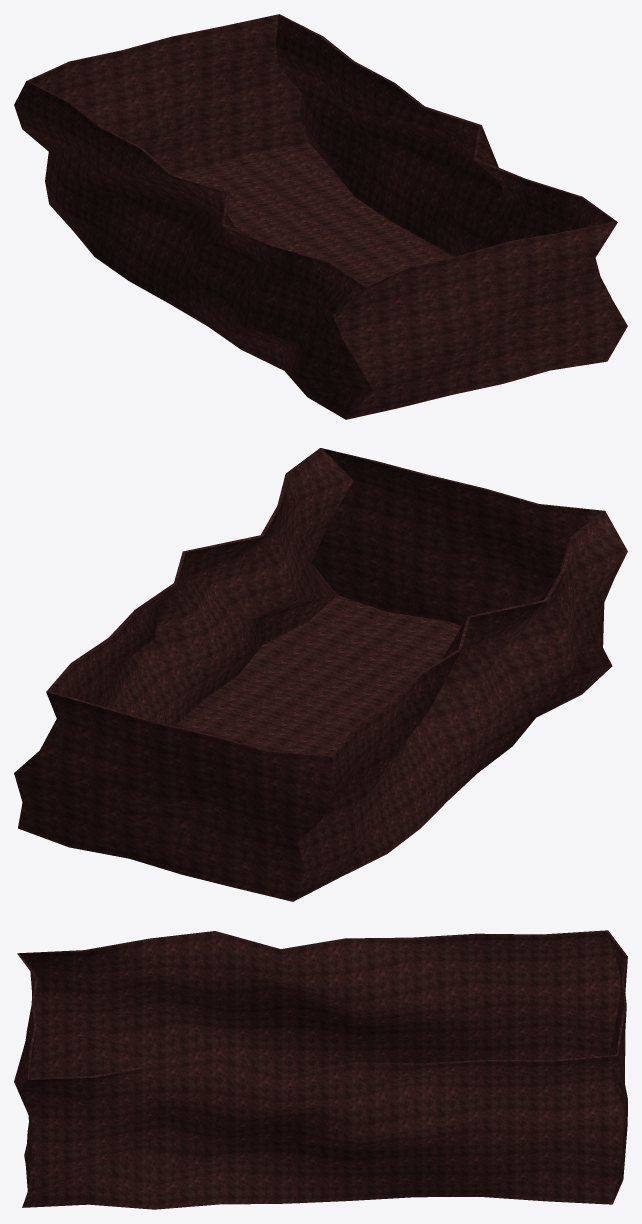
The model's file is BaseHell.FBX.
3 views of the same model, one above another, from view 1: azimuth 30°, elevation 25°; view 2: azimuth 150°, elevation 25°; view 3: azimuth 270°, elevation 25° (orthographic). The views are drawn at different scales.
Visible parts, largest first — view 1: Basehell; view 2: Basehell; view 3: Basehell.
Boxes of the visible parts, x1,y1,x2,y2 form: Basehell: (14, 14, 627, 419); Basehell: (14, 448, 627, 901); Basehell: (14, 930, 627, 1209).
Size of the model in its own units: 158 by 65.42 by 263.
